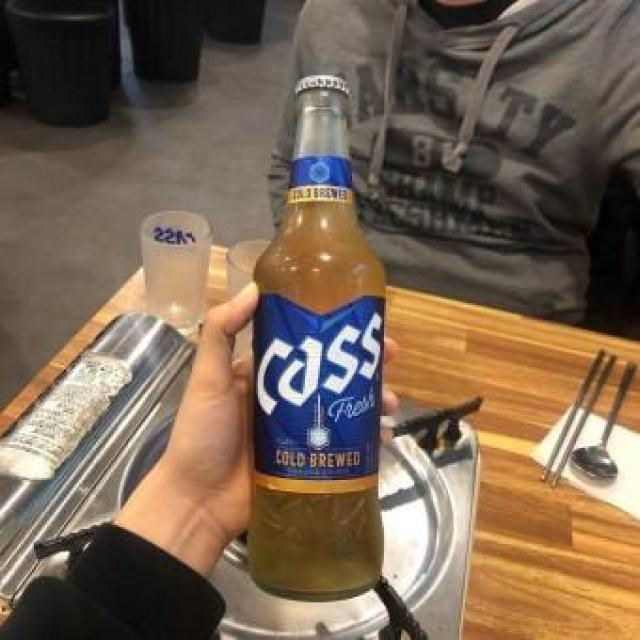beer-bottle: (244, 57, 396, 602)
